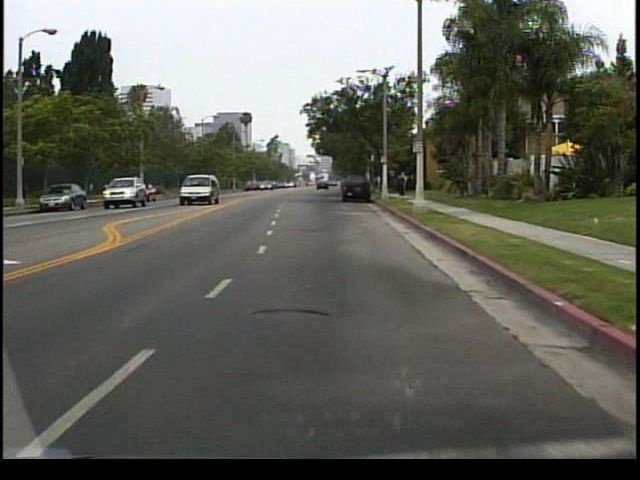person: (399, 169, 412, 199), (396, 174, 406, 198)
